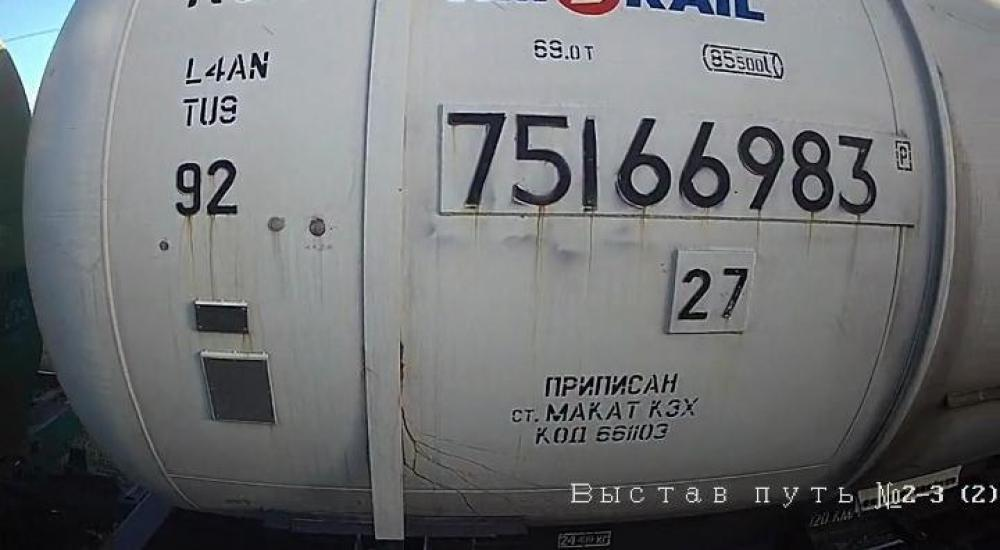Wagon-number: (442, 106, 883, 226)
